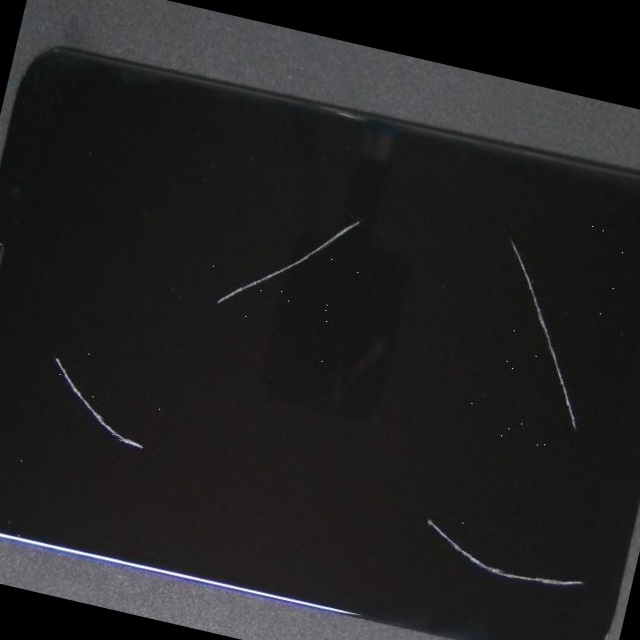scratch: (151, 22, 640, 487), (143, 208, 640, 640), (48, 154, 366, 524), (0, 110, 188, 603)
